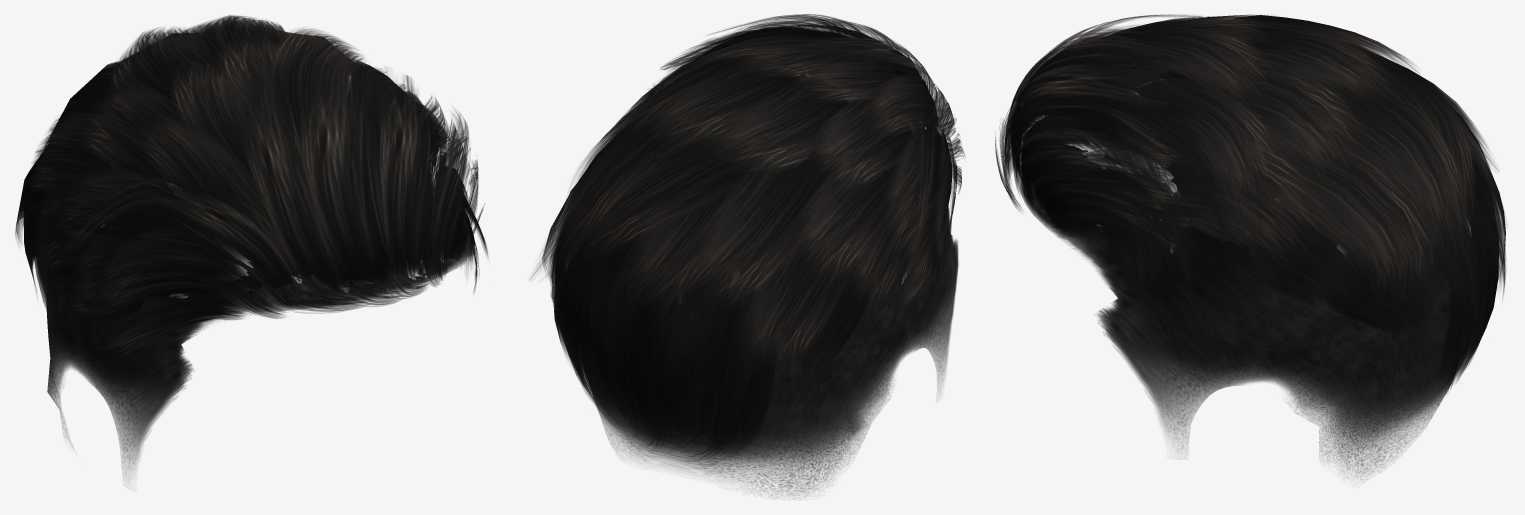
The model's file is Straight_SlickBack.glb.
3 views of the same model, side by side, from view 1: azimuth 30°, elevation 25°; view 2: azimuth 150°, elevation 25°; view 3: azimuth 270°, elevation 25° (orthographic). The views are drawn at different scales.
Visible parts, largest first — view 1: slick back, face.002_Plane.003; view 2: slick back, face.002_Plane.003; view 3: slick back, face.002_Plane.003.
Boxes of the visible parts, x1,y1,x2,y2 form: slick back: (15, 15, 488, 360); face.002_Plane.003: (46, 215, 475, 480); slick back: (529, 14, 964, 459); face.002_Plane.003: (590, 71, 958, 498); slick back: (995, 14, 1506, 393); face.002_Plane.003: (1021, 59, 1455, 480).
Size of the model in its own units: 0.1967 by 0.2273 by 0.2502.
Materials: 2 (2 with a texture image).
